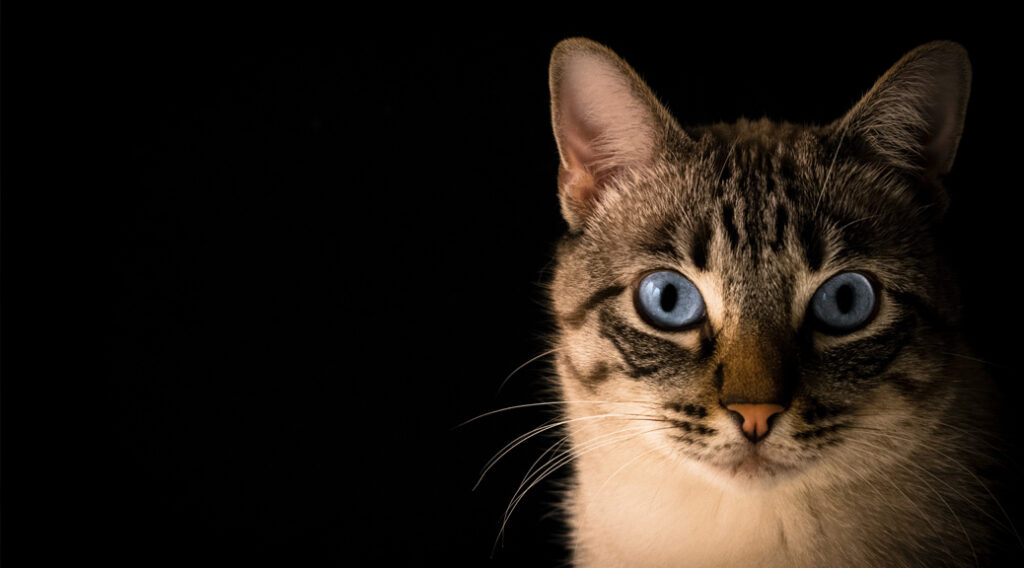Cat: (498, 23, 1011, 559)
